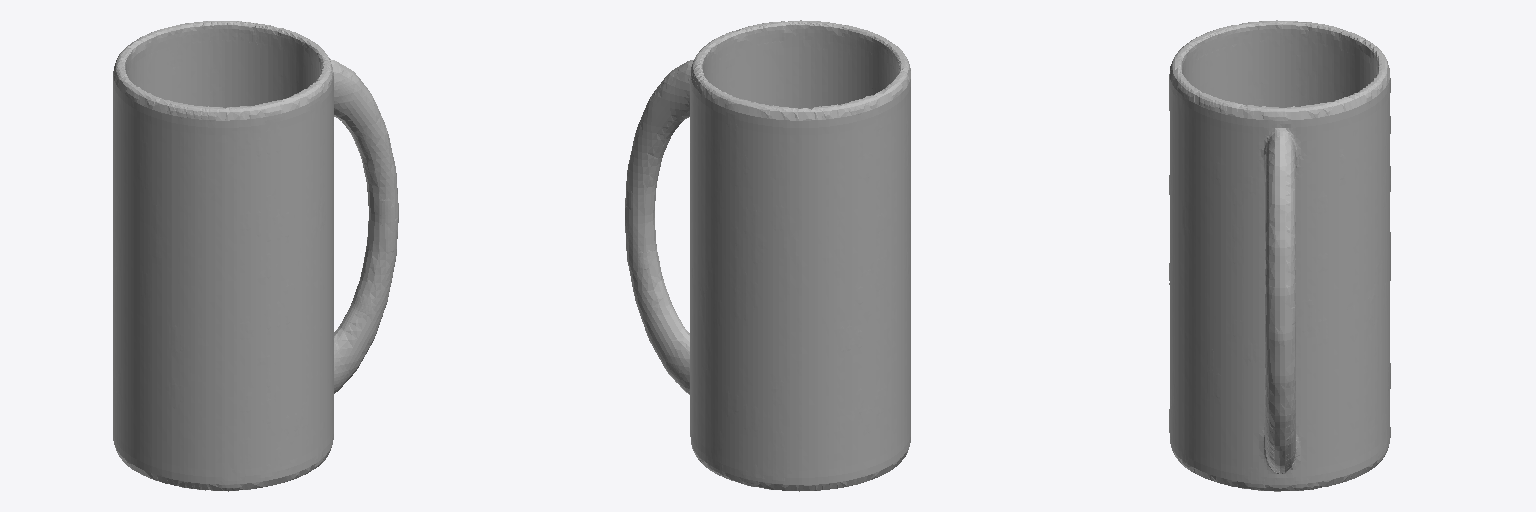
The robot description file, URDF, robot "root":
<robot name="root">
  <link name="link_001">
    <visual>
      <origin xyz="0 0 0" rpy="0 0 0"/>
      <geometry>
        <mesh filename="coffeemug.obj" scale="1.0000E+00 1.0000E+00 1.5000E+00"/>
      </geometry>
      <material name="">
        <color rgba="7.50E-01 7.50E-01 7.50E-01 1"/>
      </material>
    </visual>
    <collision>
      <origin xyz="0 0 0" rpy="0 0 0"/>
      <geometry>
        <mesh filename="coffeemug.obj" scale="1.0000E+00 1.0000E+00 1.5000E+00"/>
      </geometry>
    </collision>
    <inertial>
      <mass value="0.16"/> <!-- 质量：0.1kg -->
    </inertial>
  </link>
</robot>

--- Facts derived from the render (not from the file) ---
Views: 3 orthographic renders of the robot side by side, from view 1: azimuth 30°, elevation 25°; view 2: azimuth 150°, elevation 25°; view 3: azimuth 270°, elevation 25°.
Robot: root — 1 links, 0 joints (none); root link link_001; default pose: all joints at 0.
Visible links, largest first — view 1: link_001; view 2: link_001; view 3: link_001.
Link boxes in pixels (bbox=[...]): link_001: bbox=[113, 21, 398, 491]; link_001: bbox=[625, 20, 910, 491]; link_001: bbox=[1169, 20, 1390, 491].
Bounding box of the posed robot: 0.1159 × 0.0823 × 0.1575 m (x, y, z).
1 mesh visuals loaded from 1 distinct referenced files (1 OBJ).
